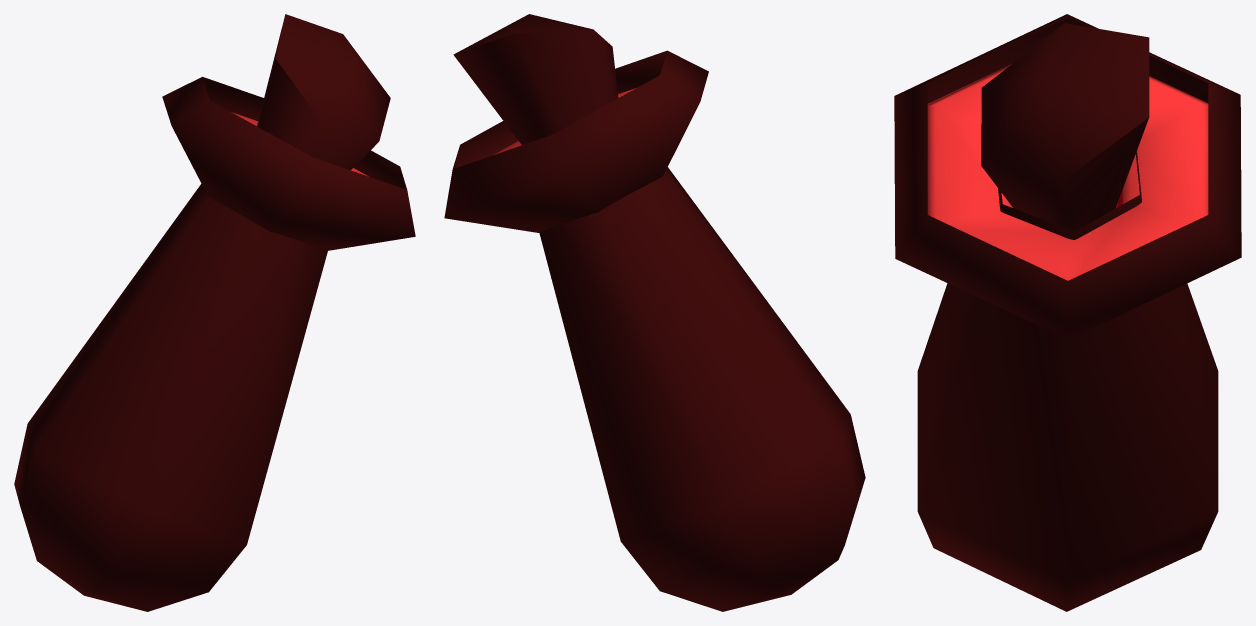
The model's file is ANTIDOTE_POTION.fbx.
3 renders of one model, left to right at view 1: azimuth 30°, elevation 25°; view 2: azimuth 150°, elevation 25°; view 3: azimuth 270°, elevation 25°, orthographic. The views are drawn at different scales.
Parts seen in each view (by area): view 1: ANTIDOTE_POTION; view 2: ANTIDOTE_POTION; view 3: ANTIDOTE_POTION.
Boxes of the visible parts, x1,y1,x2,y2 form: ANTIDOTE_POTION: [14, 14, 415, 611]; ANTIDOTE_POTION: [444, 14, 865, 611]; ANTIDOTE_POTION: [894, 14, 1241, 611].
Size of the model in its own units: 3033 by 3901 by 1845.
2 materials, 2 textured.
